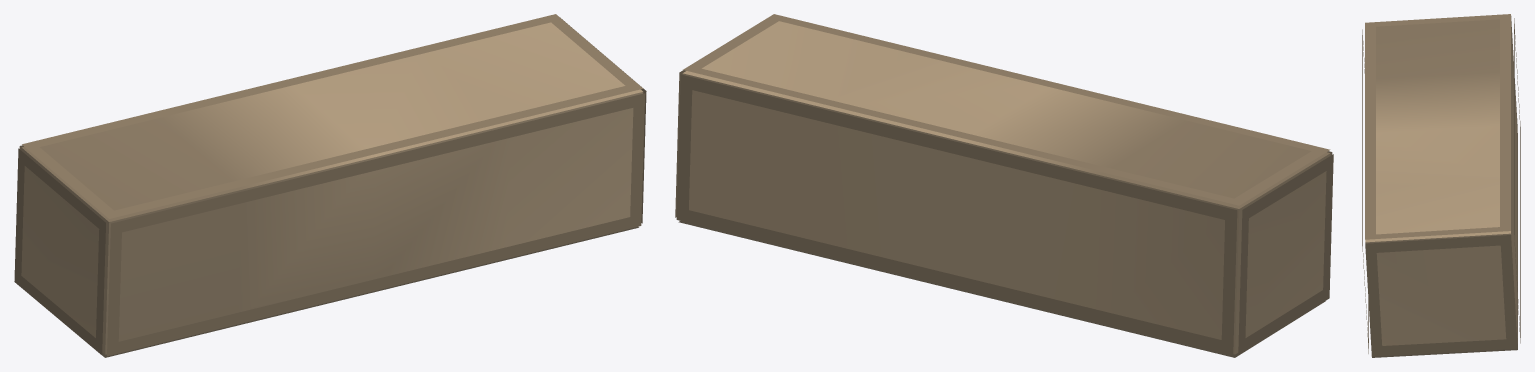
The model's file is key-2.glb.
3 views of the same model, side by side, from view 1: azimuth 30°, elevation 25°; view 2: azimuth 150°, elevation 25°; view 3: azimuth 270°, elevation 25° (orthographic). The views are drawn at different scales.
Parts seen in each view (by area): view 1: key-2; view 2: key-2; view 3: key-2.
Part boxes in pixels (x1=…): key-2: x1=14, y1=14, x2=646, y2=357; key-2: x1=675, y1=14, x2=1333, y2=357; key-2: x1=1362, y1=14, x2=1520, y2=357.
Bounding box in the file's own units: 0.0709 × 0.0191 × 0.0216.
